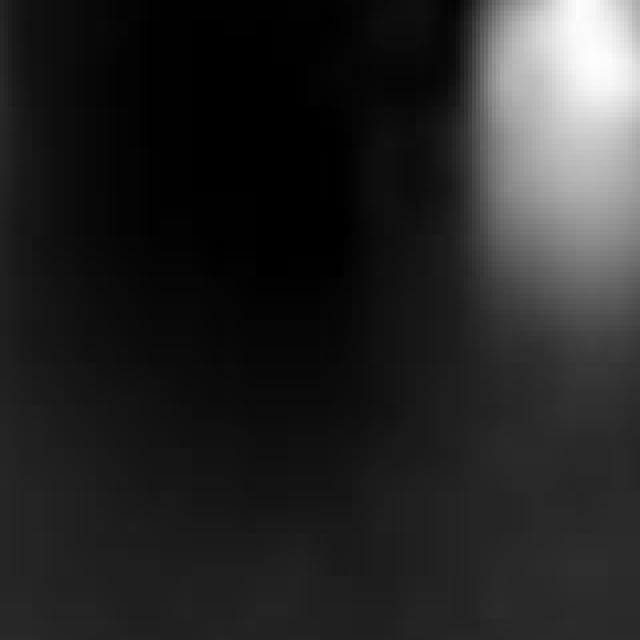person: (485, 1, 640, 385)
